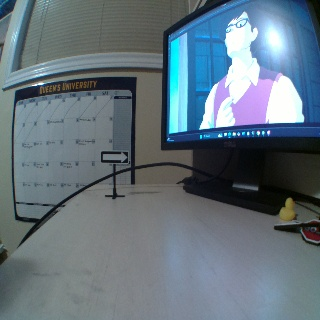sign_oneway_right: (100, 149, 128, 163)
